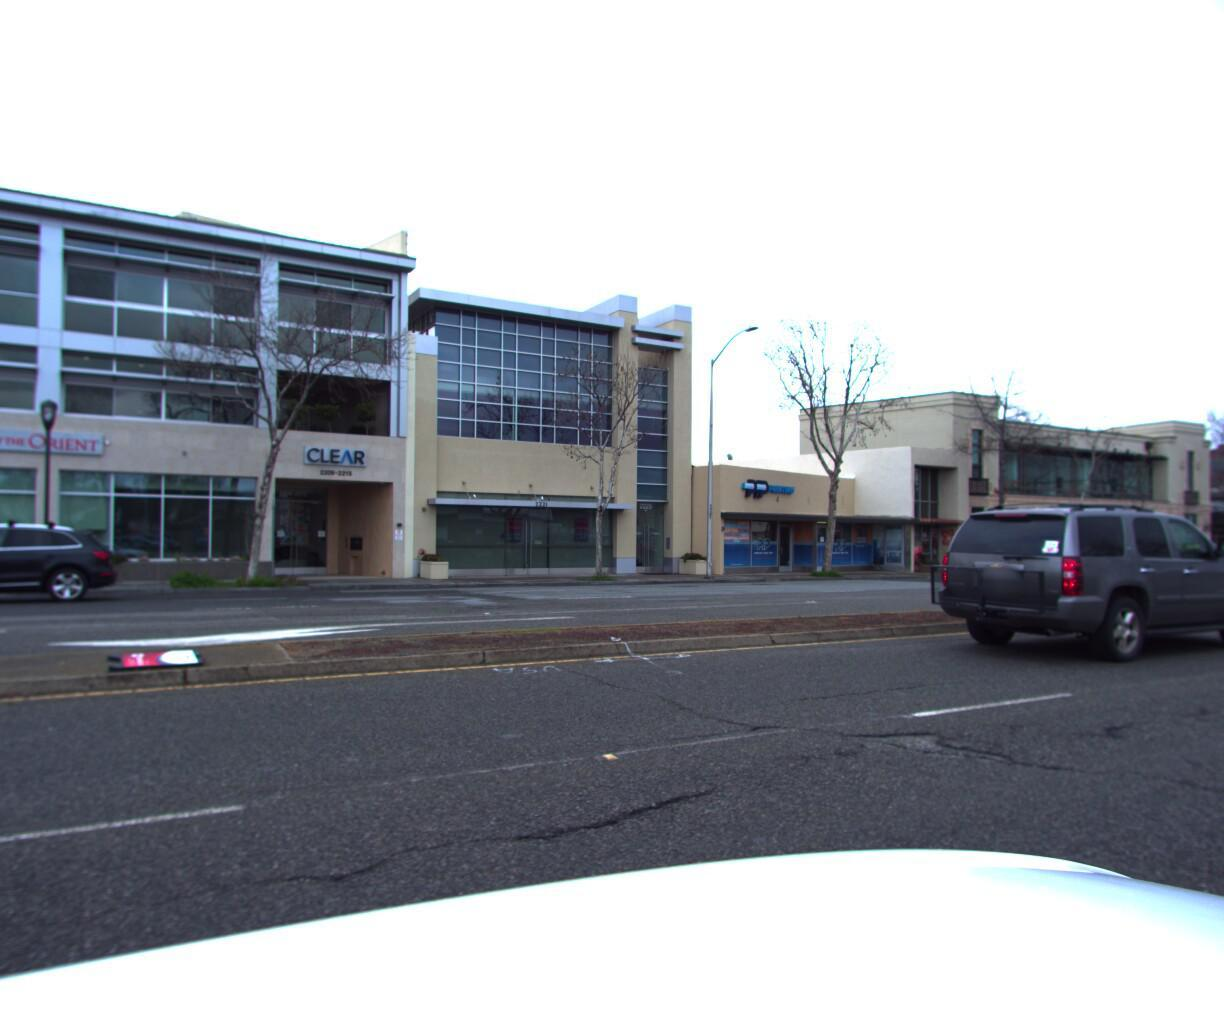car: (925, 494, 1224, 676), (0, 517, 120, 618)
